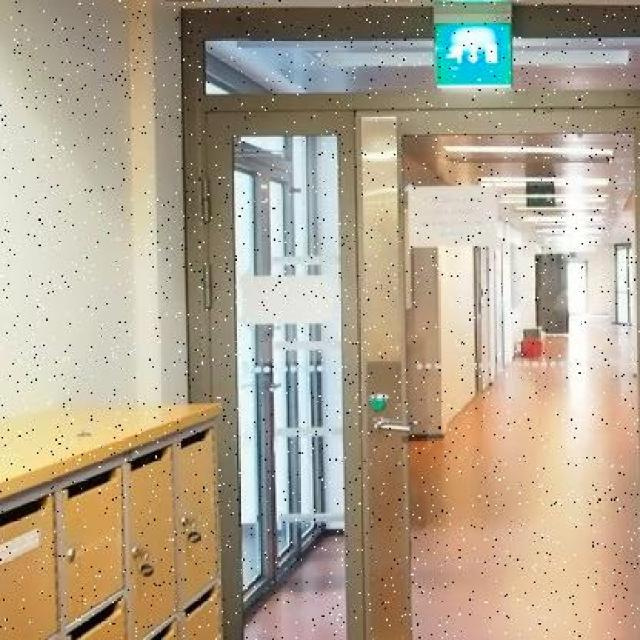emergency_exit: (432, 1, 514, 89)
